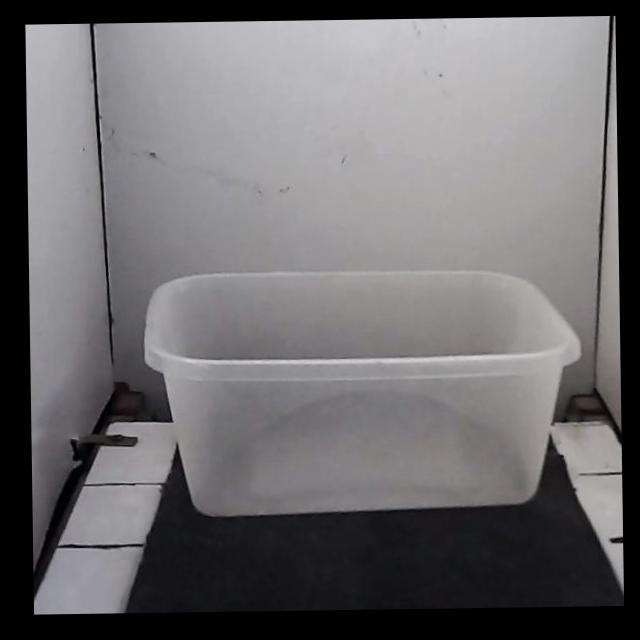plastico: (145, 270, 580, 516)
